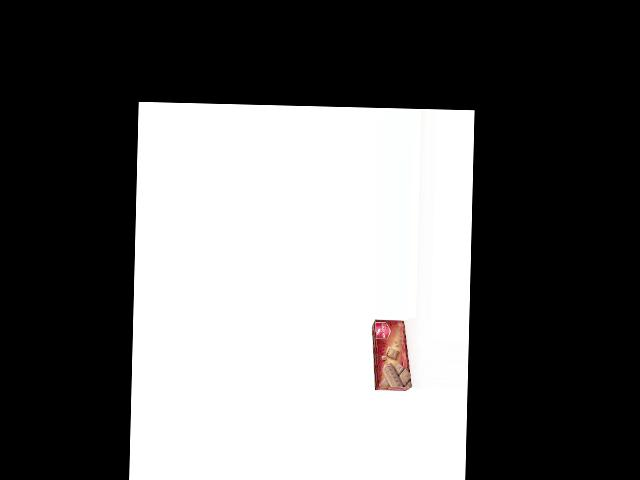chocolate: (369, 319, 414, 390)
